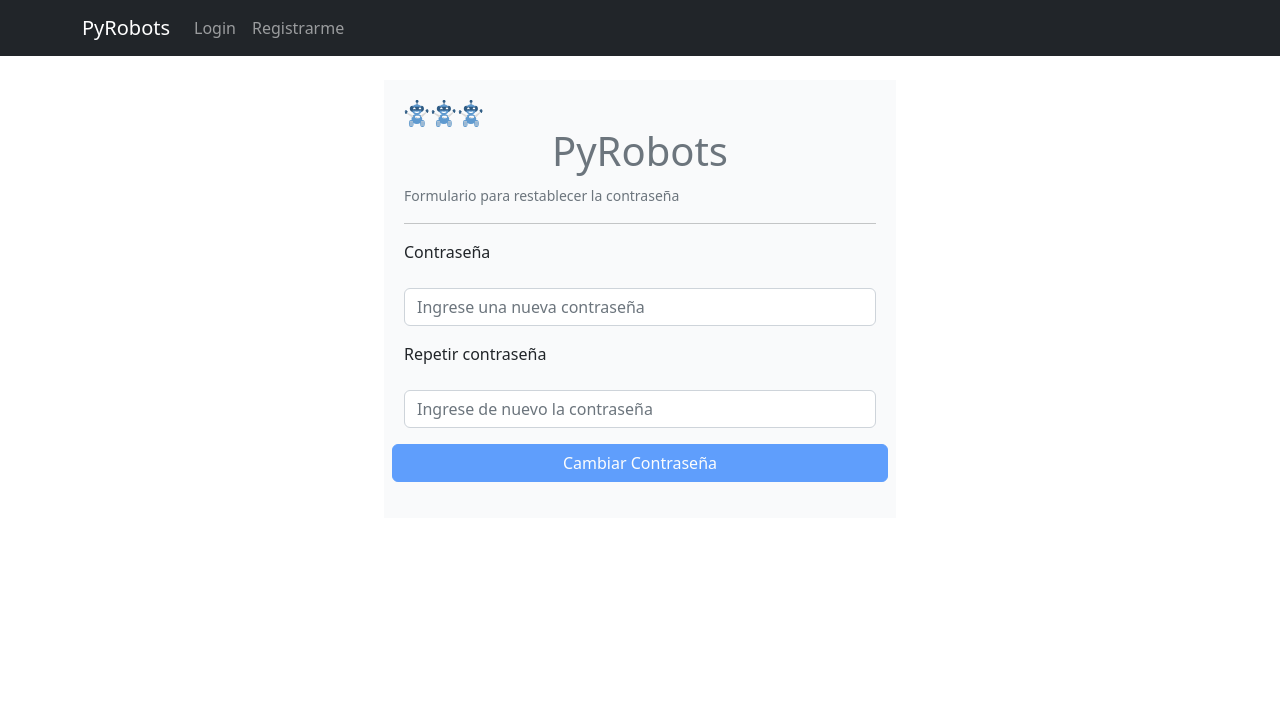
it: debe avisar error de confirmaciones
The image size is (1280, 720).
Type "abCdeF@150" into the password field with placeholder "Ingrese una nueva contraseña". click: {"x": 640, "y": 307}
box: left=404, top=288, right=876, bottom=326
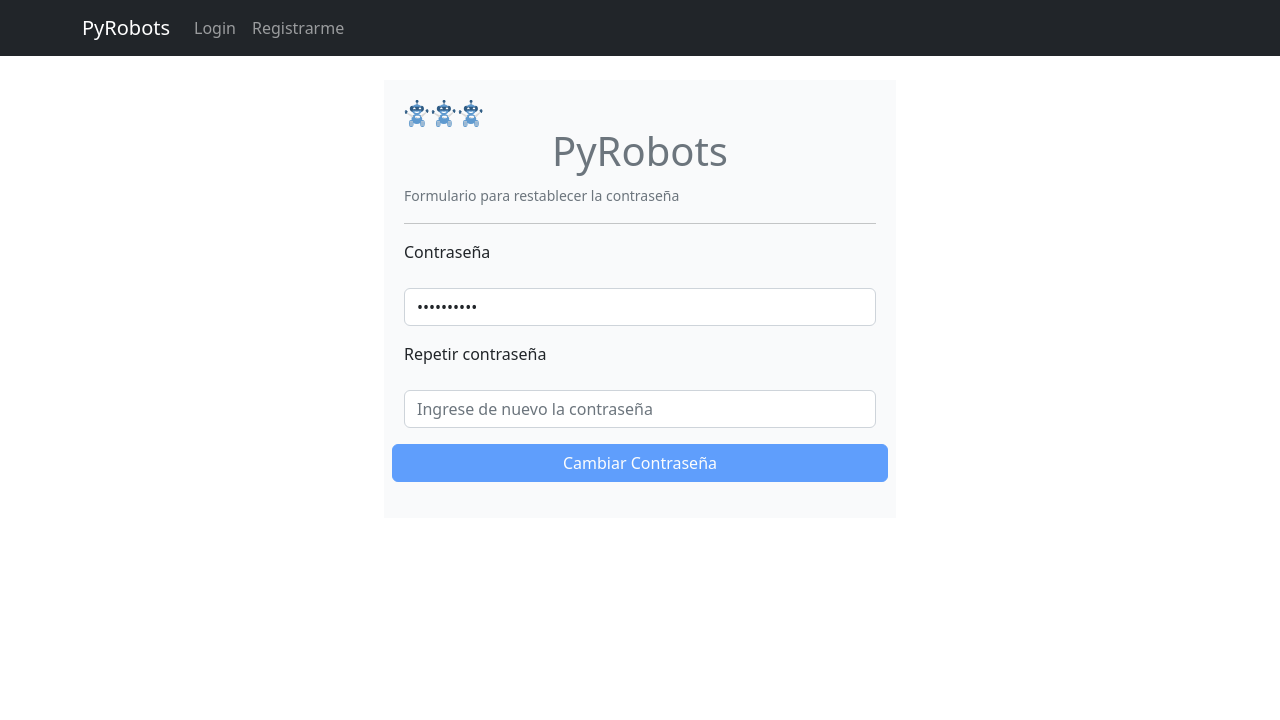
Type "abCdeF@1501" into the password field with placeholder "Ingrese de nuevo la contraseña". click: {"x": 640, "y": 409}
box: left=404, top=390, right=876, bottom=428
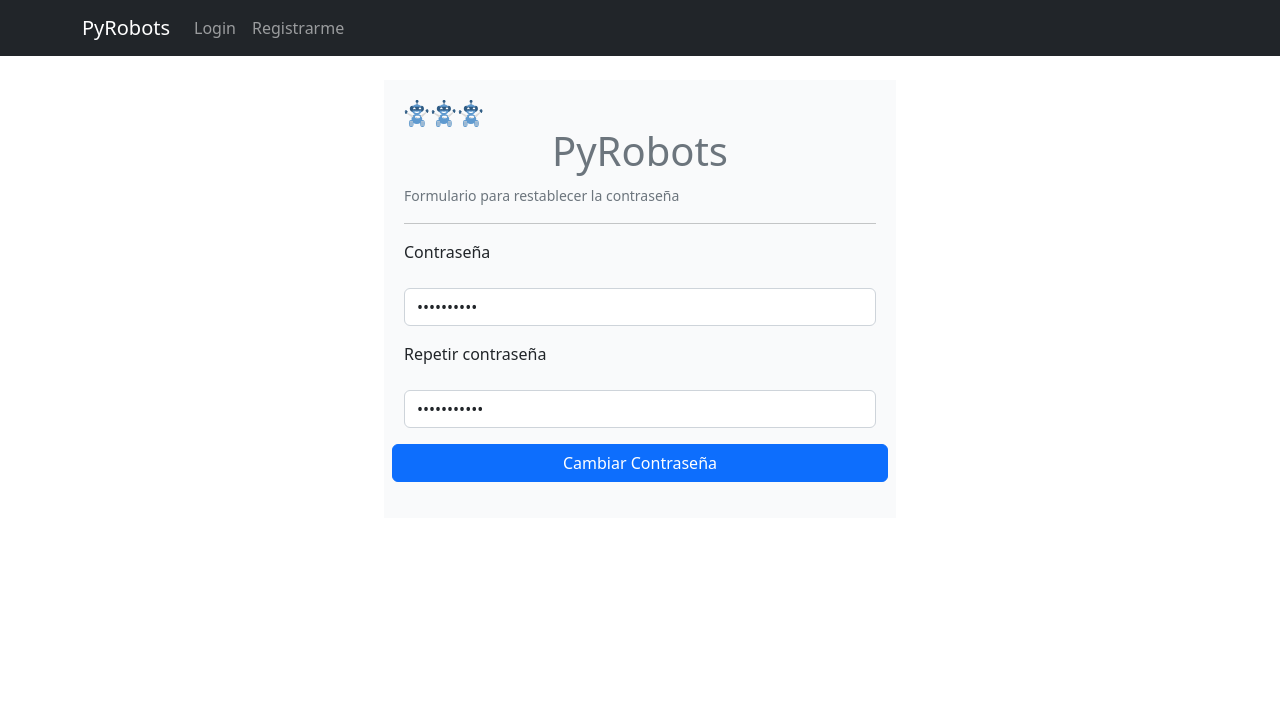
Click the button with test id "test-button-recover". click: {"x": 640, "y": 463}
box: left=392, top=444, right=888, bottom=482
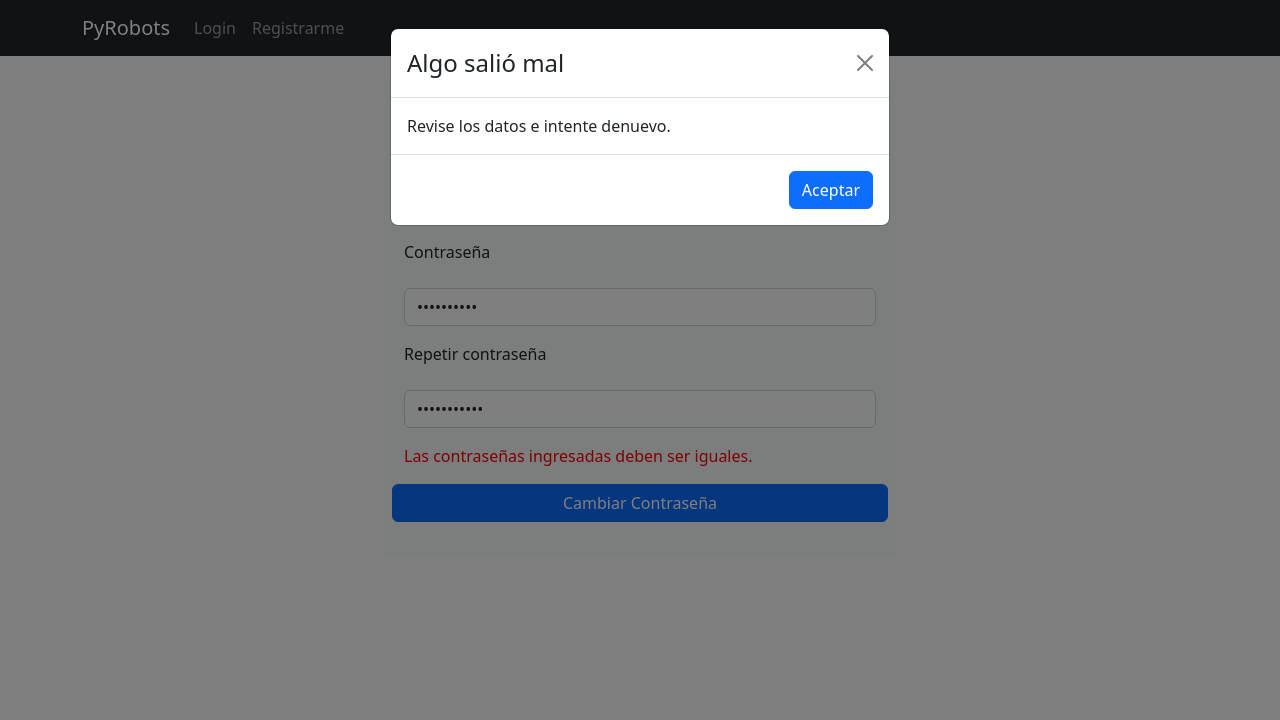
Now the text "Las contraseñas ingresadas deben ser iguales." is shown, box left=404, top=445, right=752, bottom=467
